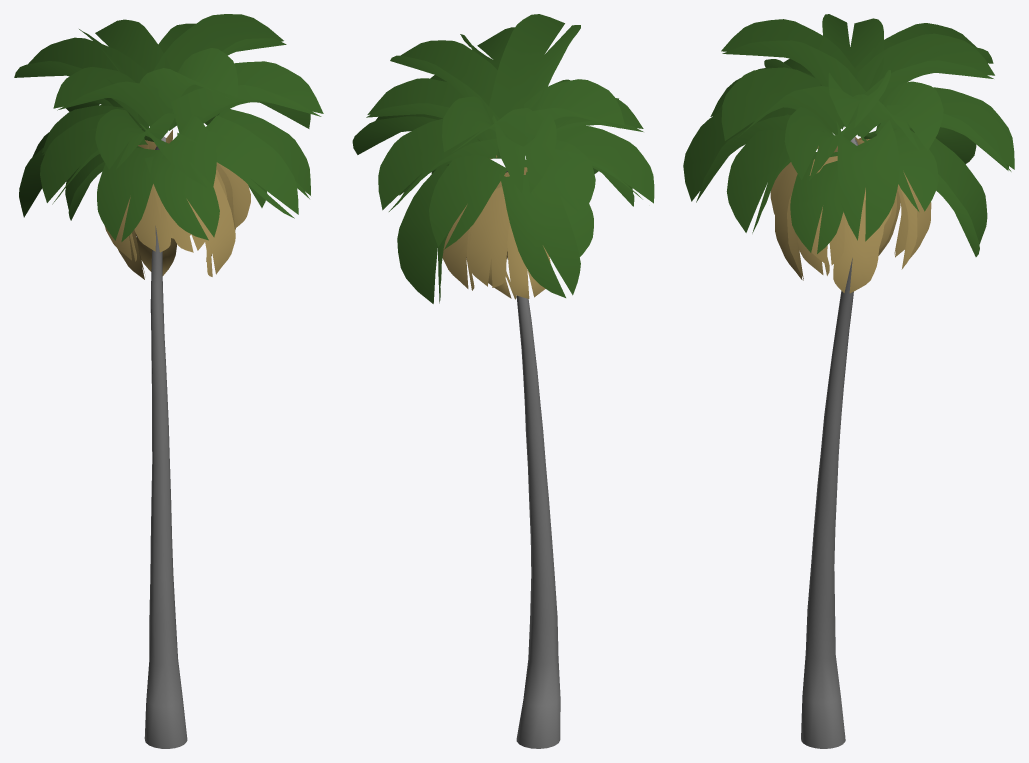
Rendered from SM_palm_tree_desert_05.fbx.
3 views of the same model, side by side, from view 1: azimuth 30°, elevation 25°; view 2: azimuth 150°, elevation 25°; view 3: azimuth 270°, elevation 25° (orthographic). The views are drawn at different scales.
Parts seen in each view (by area): view 1: Object32259; view 2: Object32259; view 3: Object32259.
Part boxes in pixels (x1=…): Object32259: x1=14, y1=14, x2=323, y2=748; Object32259: x1=352, y1=14, x2=654, y2=748; Object32259: x1=683, y1=14, x2=1014, y2=748.
Size of the model in its own units: 137 by 328 by 137.
